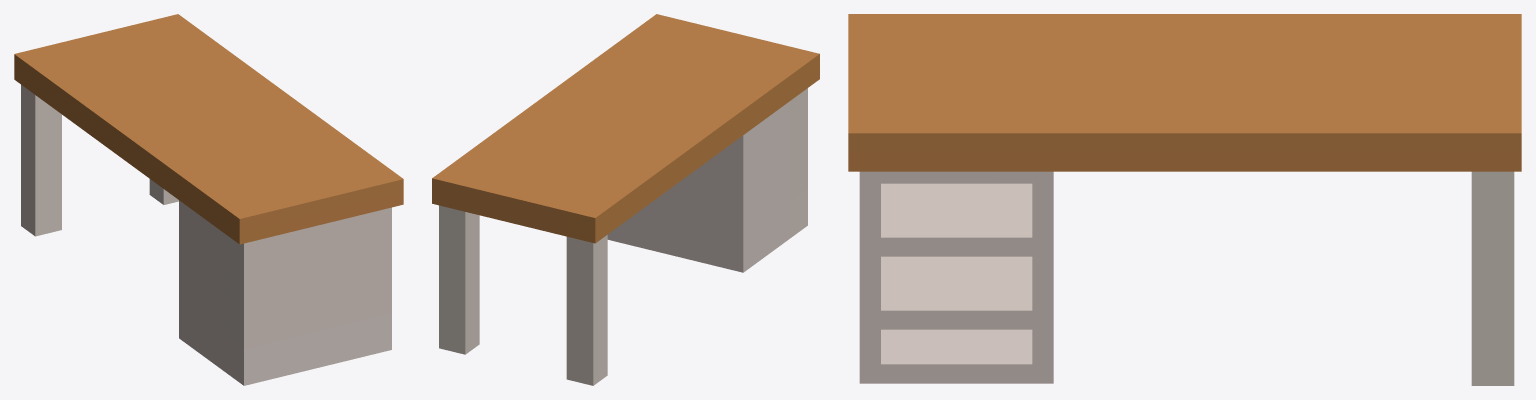
File: Desk.fbx
3 renders of one model, left to right at view 1: azimuth 30°, elevation 25°; view 2: azimuth 150°, elevation 25°; view 3: azimuth 270°, elevation 25°, orthographic. The views are drawn at different scales.
Parts seen in each view (by area): view 1: Table Drawer; view 2: Table Drawer; view 3: Table Drawer.
Part boxes in pixels (x1,y1,x2,y2): Table Drawer: (14,14,403,385); Table Drawer: (432,14,819,385); Table Drawer: (848,14,1521,385).
Size of the model in its own units: 200 by 200 by 476.
2 materials, 2 textured.
